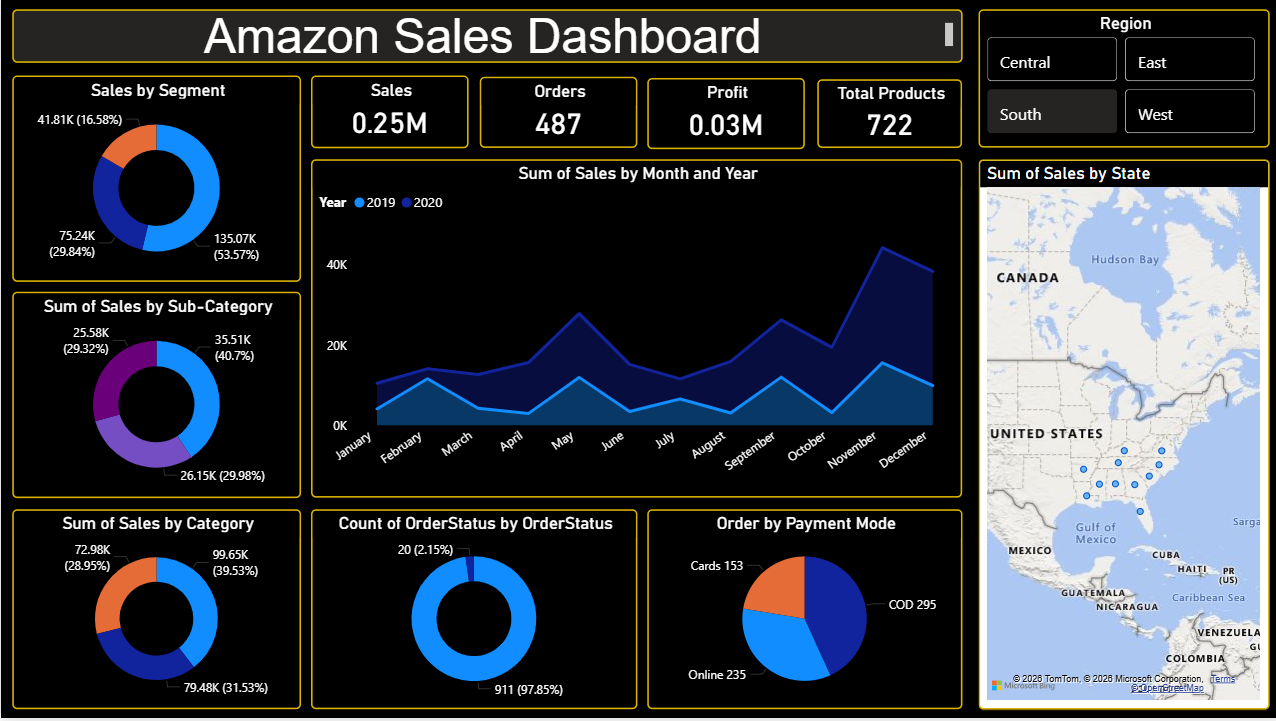

Layout of this report page (visuals, bound fields, positions):
{"tool":"powerbi","page":{"name":"Page 1","canvas":[1280,720],"ordinal":0},"visuals":[{"type":"donutChart","title":"Sales by Segment","fields":{"Category":["Sheet1.Segment"],"Y":["Sum(Sheet1.Sales)"]},"box":[11.2,77.5,288.8,206.2],"z":0},{"type":"donutChart","fields":{"Category":["Sheet1.Sub-Category"],"Y":["Sum(Sheet1.Sales)"]},"box":[11.2,293.8,288.8,206.2],"z":1},{"type":"donutChart","fields":{"Category":["Sheet1.Category"],"Y":["Sum(Sheet1.Sales)"]},"box":[11.2,511.2,288.8,200],"z":2},{"type":"card","title":"Sales","fields":{"Values":["Sum(Sheet1.Sales)"]},"box":[310,77.5,157.5,72.5],"z":3},{"type":"card","title":"Orders","fields":{"Values":["Count(Sheet1.Order ID)"]},"box":[478.8,78.8,157.5,71.2],"z":4},{"type":"card","title":"Profit","fields":{"Values":["Sum(Sheet1.Profit)"]},"box":[646.2,80,157.5,71.2],"z":5},{"type":"card","title":"Total Products","fields":{"Values":["Count(Sheet1.Product ID)"]},"box":[816.2,81.2,145,68.8],"z":6},{"type":"stackedAreaChart","fields":{"Category":["Sheet1.Order Date.Variation.Date Hierarchy.Month"],"Y":["Sum(Sheet1.Sales)"],"Series":["Sheet1.Order Date.Variation.Date Hierarchy.Year"]},"box":[310,161.2,651.2,338.8],"z":7},{"type":"donutChart","fields":{"Category":["Sheet1.OrderStatus"],"Y":["CountNonNull(Sheet1.OrderStatus)"]},"box":[310,511.2,326.2,200],"z":9},{"type":"pieChart","title":"Order  by Payment Mode","fields":{"Category":["Sheet1.Payment Mode"],"Y":["Count(Sheet1.Order ID)"]},"box":[646.2,511.2,315,200],"z":10},{"type":"map","title":"Sum of Sales by State","fields":{"Category":["Sheet1.State"]},"box":[977.5,161.2,291.2,550],"z":11},{"type":"advancedSlicerVisual","fields":{"Values":["Sheet1.Region"]},"box":[977.5,11.2,291.2,138.8],"z":12},{"type":"textbox","box":[11.2,11.2,950,53.8],"z":13}]}

Visuals, with their boxes in screenshot pixels (x1, y1, x2, y2), scaled from the page's 1280x720 canvas onto the 1276x721 screenshot:
"Sales by Segment" donutChart: {"x1": 11, "y1": 78, "x2": 299, "y2": 284}
donutChart - Sheet1.Sub-Category x Sum(Sheet1.Sales): {"x1": 11, "y1": 294, "x2": 299, "y2": 501}
donutChart - Sheet1.Category x Sum(Sheet1.Sales): {"x1": 11, "y1": 512, "x2": 299, "y2": 712}
"Sales" card: {"x1": 309, "y1": 78, "x2": 466, "y2": 150}
"Orders" card: {"x1": 477, "y1": 79, "x2": 634, "y2": 150}
"Profit" card: {"x1": 644, "y1": 80, "x2": 801, "y2": 151}
"Total Products" card: {"x1": 814, "y1": 81, "x2": 958, "y2": 150}
stackedAreaChart - Sheet1.Order Date.Variation.Date Hierarchy.Month x Sum(Sheet1.Sales): {"x1": 309, "y1": 161, "x2": 958, "y2": 501}
donutChart - Sheet1.OrderStatus x CountNonNull(Sheet1.OrderStatus): {"x1": 309, "y1": 512, "x2": 634, "y2": 712}
"Order  by Payment Mode" pieChart: {"x1": 644, "y1": 512, "x2": 958, "y2": 712}
"Sum of Sales by State" map: {"x1": 974, "y1": 161, "x2": 1265, "y2": 712}
advancedSlicerVisual - Sheet1.Region: {"x1": 974, "y1": 11, "x2": 1265, "y2": 150}
textbox: {"x1": 11, "y1": 11, "x2": 958, "y2": 65}
